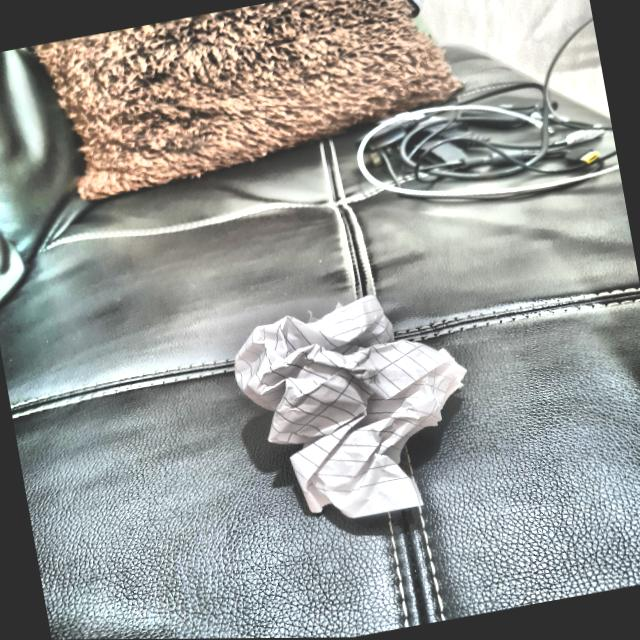Paper: (226, 274, 502, 539)
